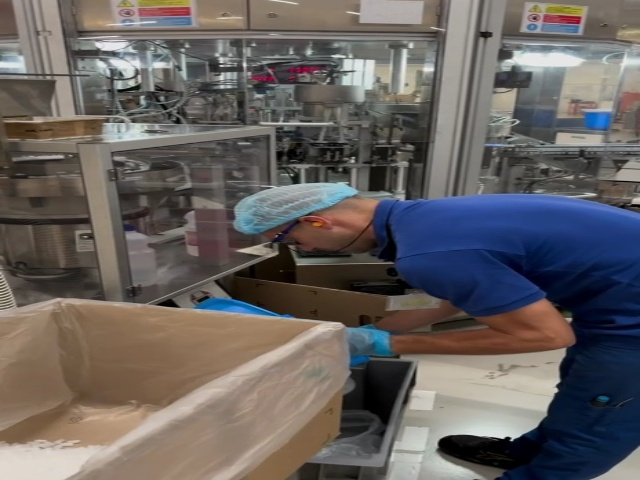Earplug: (299, 214, 337, 234)
Hairnet: (235, 181, 348, 236)
No_Helmet: (236, 180, 357, 233)
No_Vest: (382, 198, 640, 313)
Person: (236, 182, 640, 476)
Safety_Goggles: (267, 211, 314, 246)
